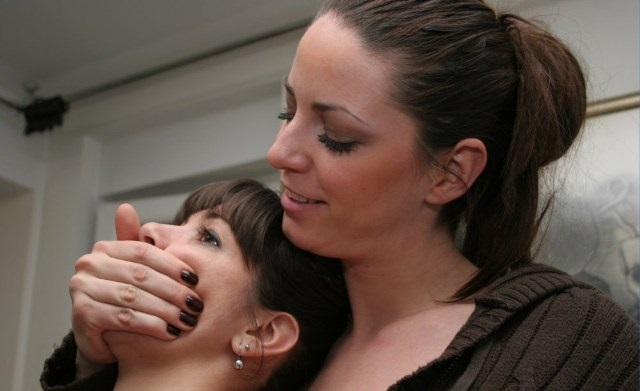face: (269, 12, 417, 261), (87, 197, 261, 338)
